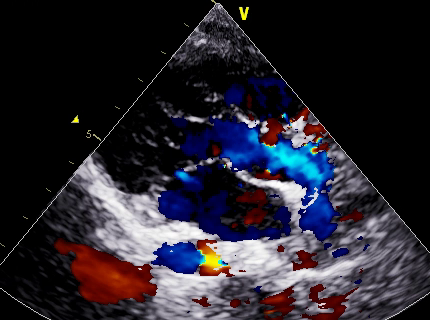MR: (146, 163, 221, 223)
